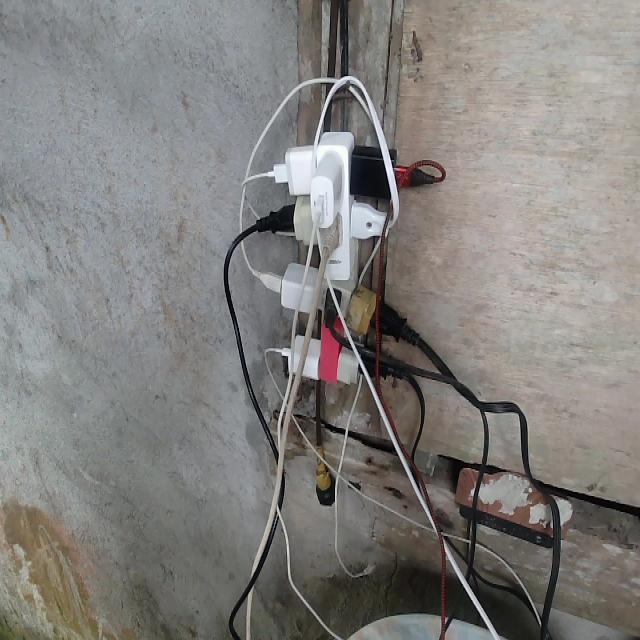-: (254, 131, 420, 384)
